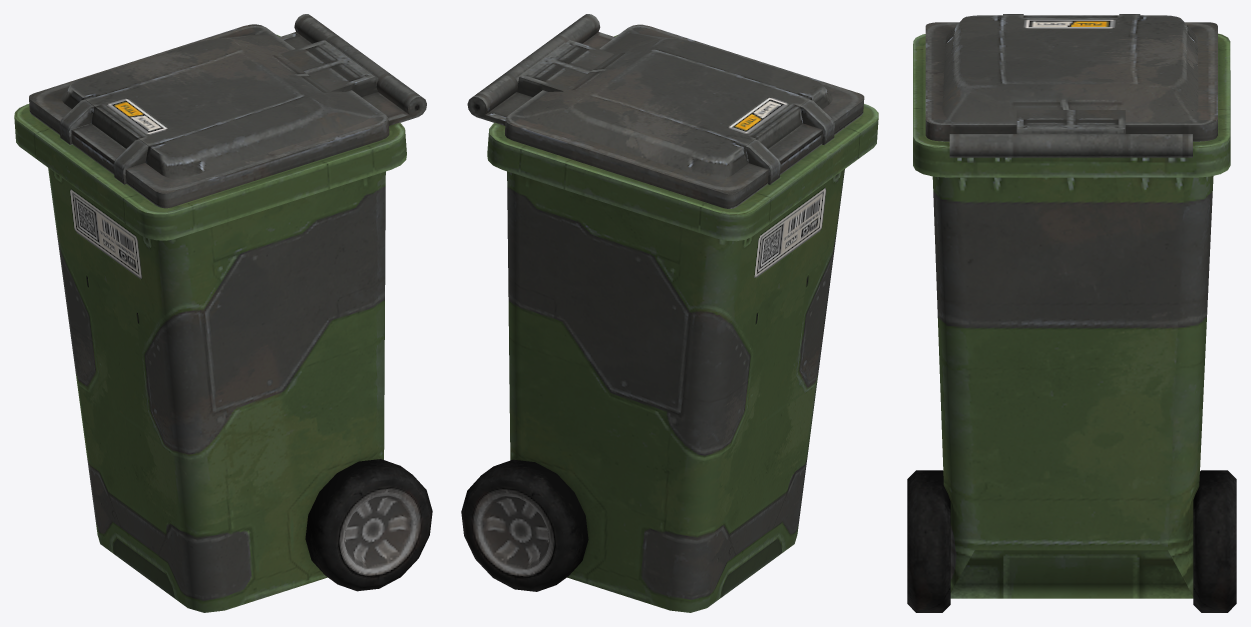
Rendered from CP_Dumpster_02.fbx.
3 renders of one model, left to right at view 1: azimuth 30°, elevation 25°; view 2: azimuth 150°, elevation 25°; view 3: azimuth 270°, elevation 25°, orthographic. The views are drawn at different scales.
Visible parts, largest first — view 1: CP_Dumpster_02_LOD0; view 2: CP_Dumpster_02_LOD0; view 3: CP_Dumpster_02_LOD0.
Part boxes in pixels (box(x1,y1,x2,y2)): CP_Dumpster_02_LOD0: box(14, 14, 432, 612); CP_Dumpster_02_LOD0: box(461, 14, 878, 612); CP_Dumpster_02_LOD0: box(907, 14, 1236, 612).
Size of what is drawn, in the model's own units: 80.43 by 124 by 73.33.
